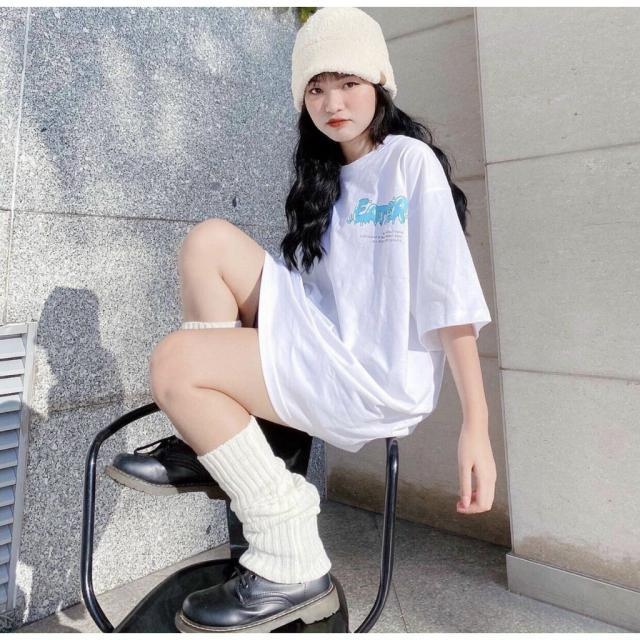Shirt: (255, 131, 496, 456)
